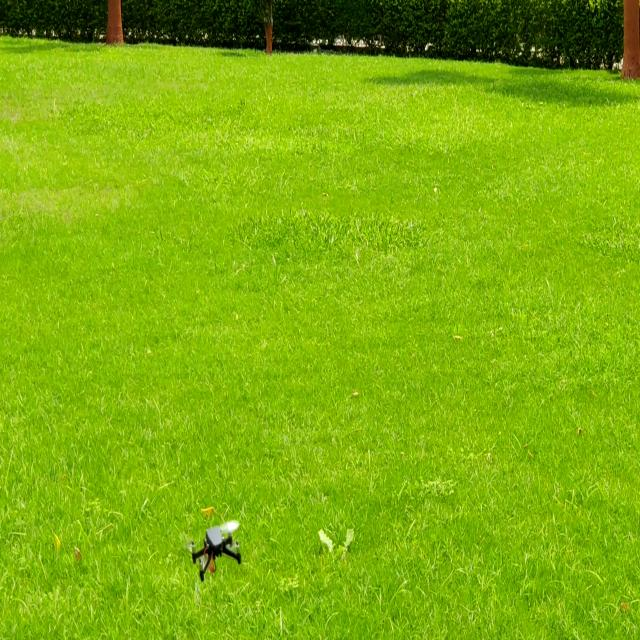drone: (179, 514, 251, 581)
